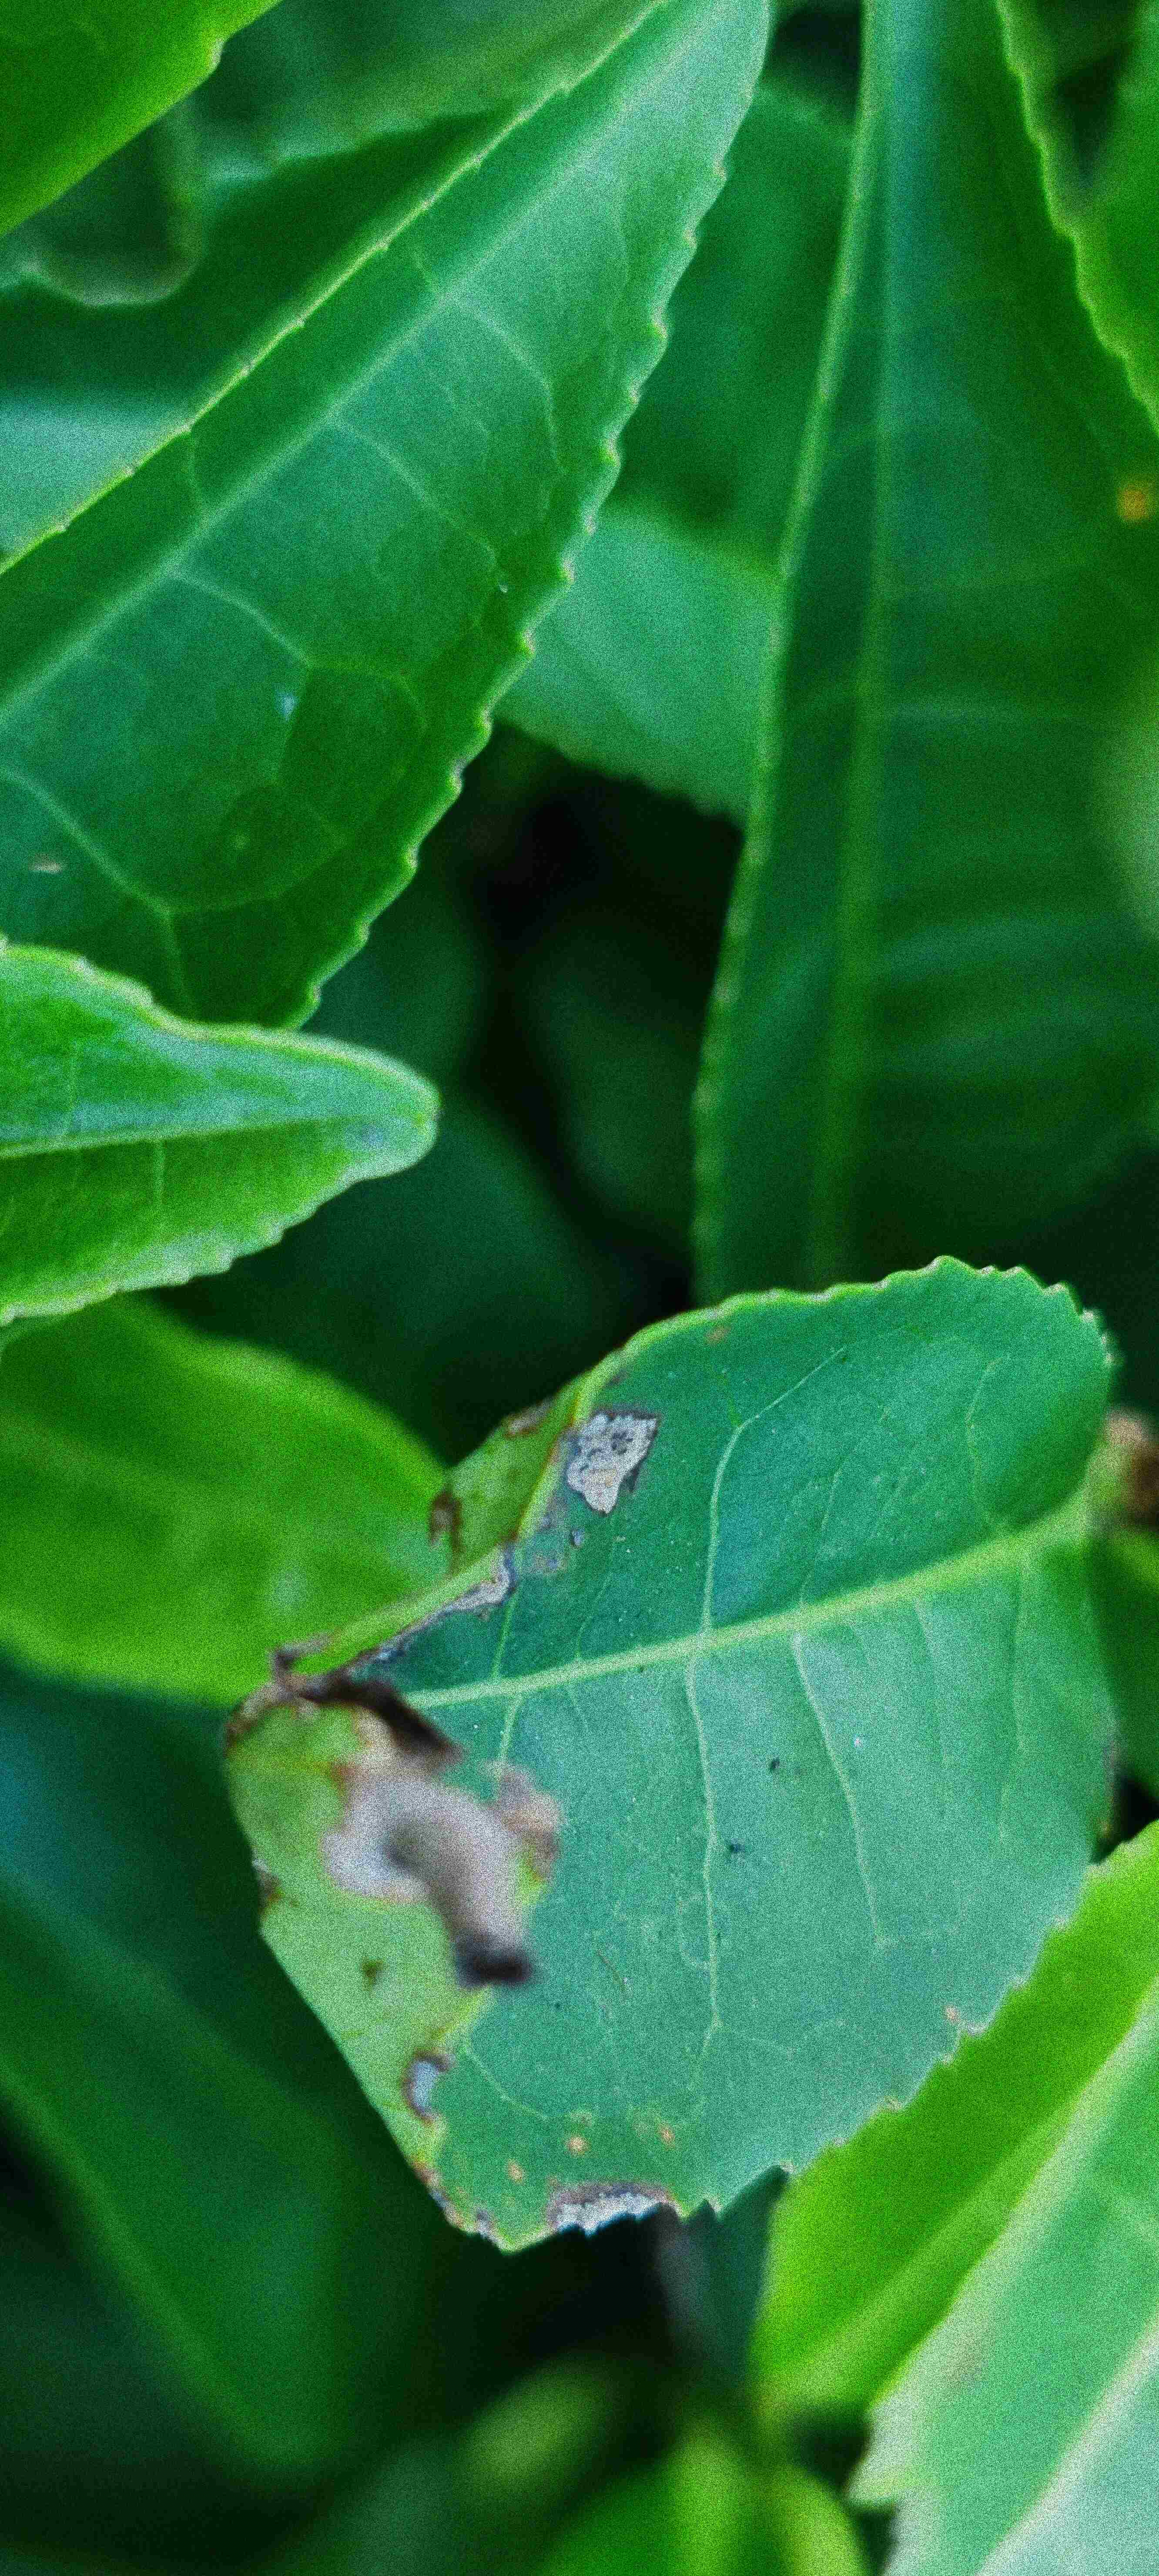healthy: (0, 5, 781, 1030), (0, 935, 451, 1332)
tanju_high: (223, 1253, 1131, 2254)
